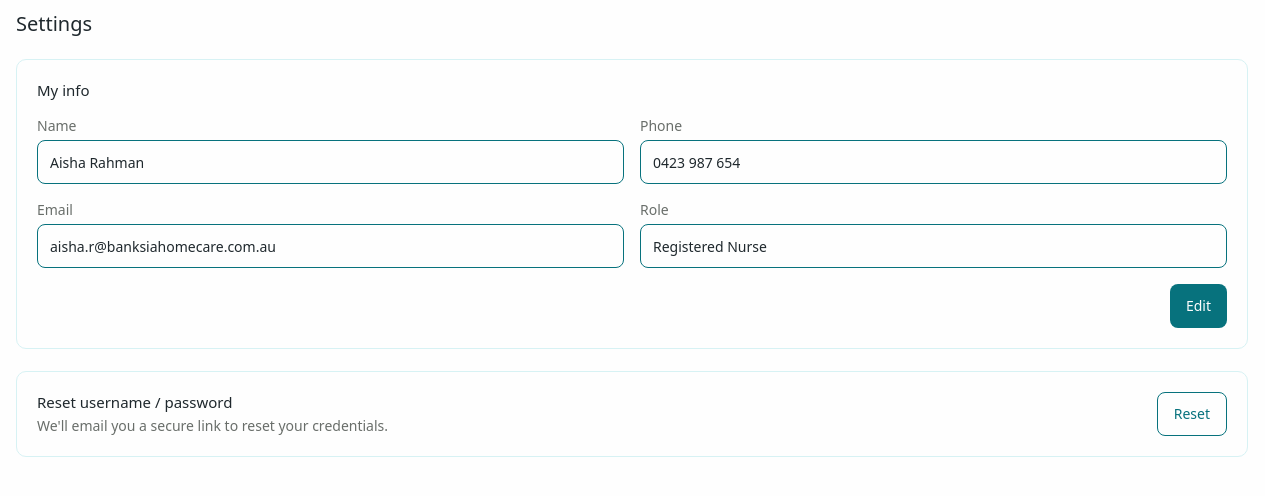
Test: [CAR-UI-04] Carer Settings › [CAR-UI-04][AC-01] Cancel puts back the last saved values; an invalid Save shows the message and stays in edit mode (FD-06)
Step 1. Click the button "Edit" → (1198, 306), box x1=1170 y1=284 x2=1227 y2=328
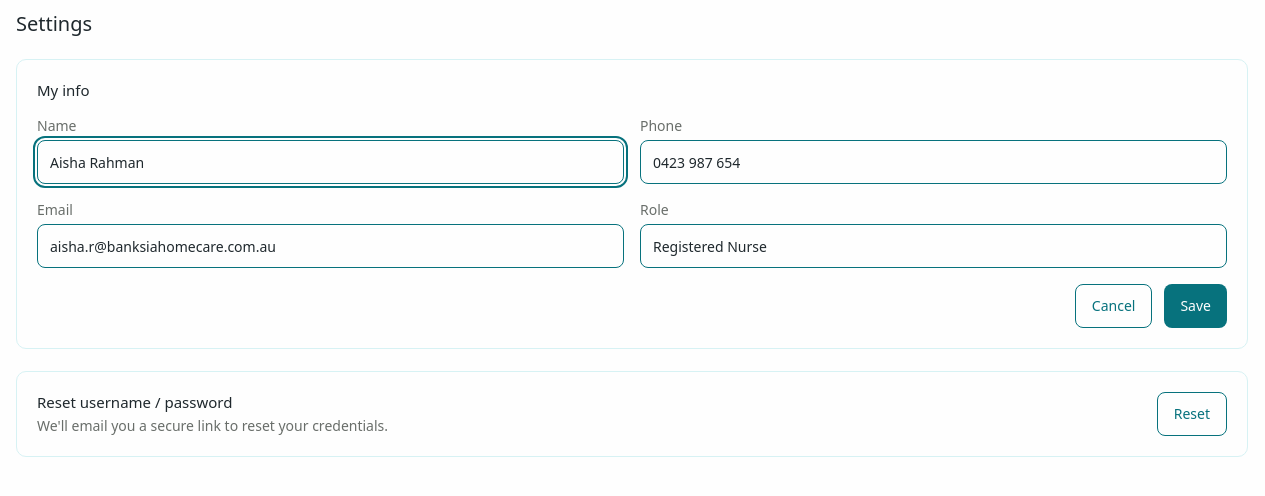
Step 2. Replace the text in the field labelled "Email" with "not-an-email" → (330, 246), box x1=37 y1=224 x2=624 y2=268
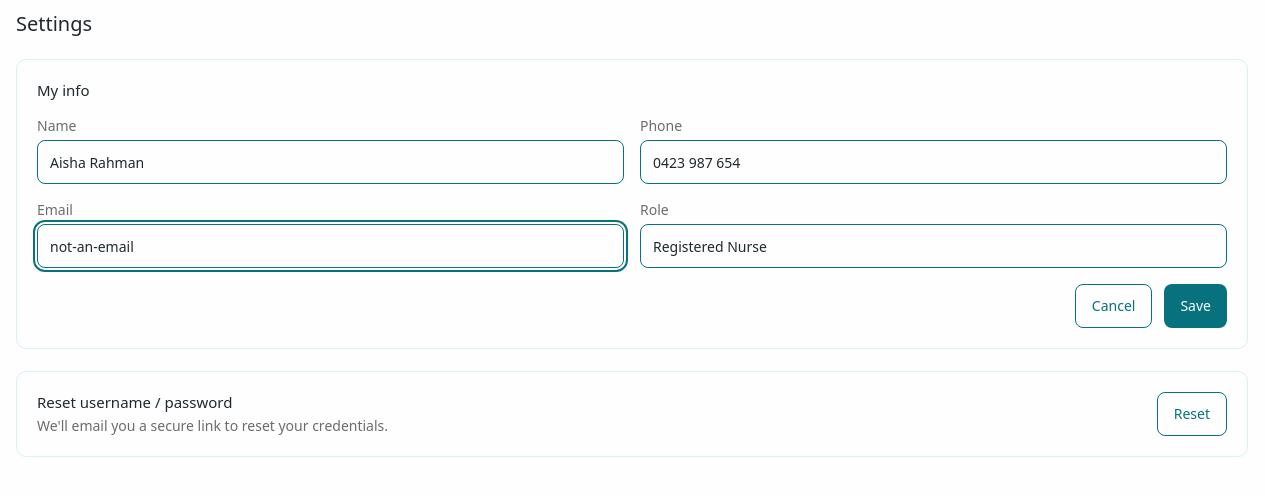
Step 3. Click the button "Save" → (1196, 306), box x1=1164 y1=284 x2=1227 y2=328
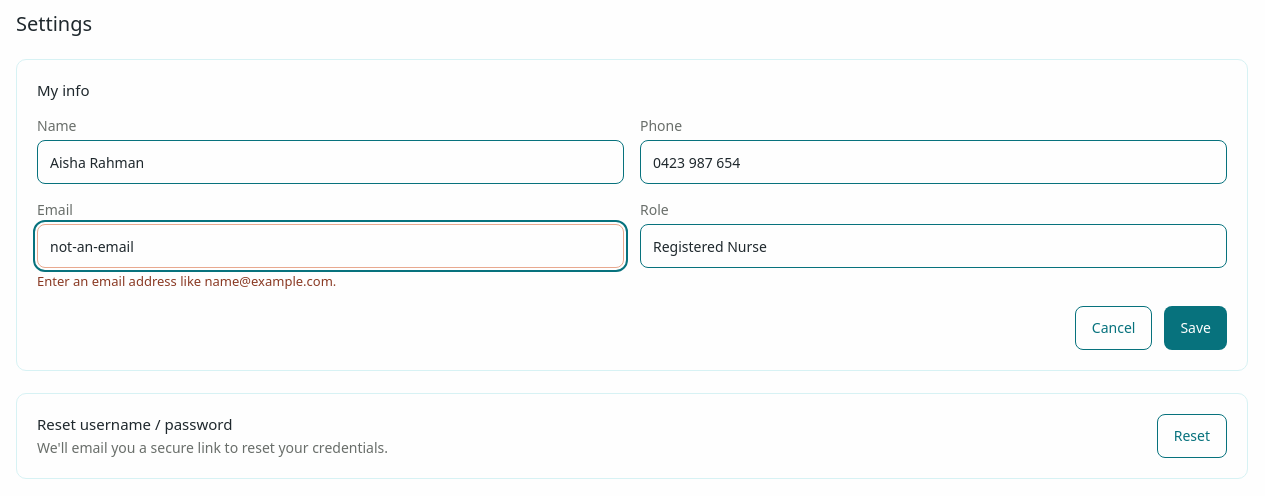
Now the button "Save" is shown, box x1=1164 y1=306 x2=1227 y2=350
Now the text "Enter an email address like name@example.com." is shown, box x1=37 y1=272 x2=336 y2=290
Step 4. Click the button "Cancel" → (1114, 328), box x1=1075 y1=306 x2=1152 y2=350
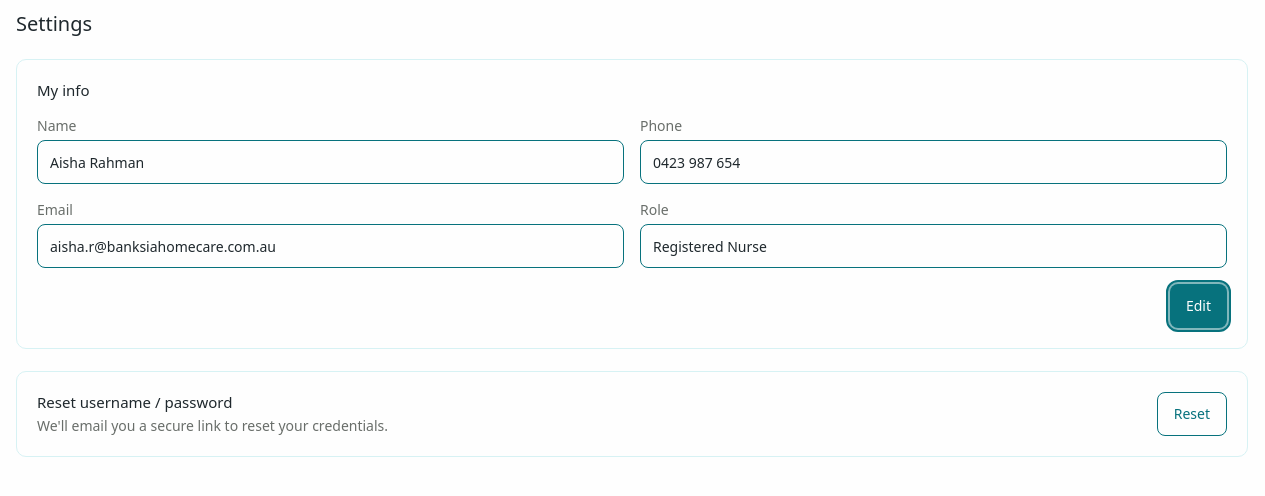
Now the field labelled "Email" holds "aisha.r@banksiahomecare.com.au", box x1=37 y1=224 x2=624 y2=268
Now the button "Cancel" is gone
